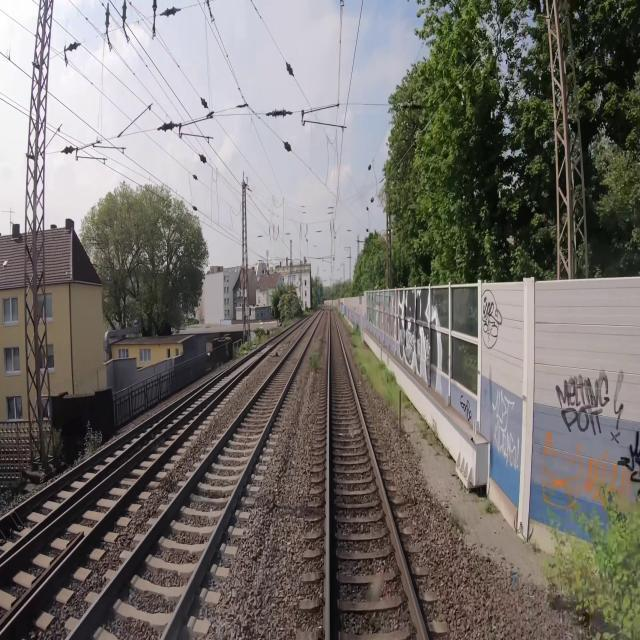Plant: (351, 328, 408, 402), (308, 350, 321, 371)
